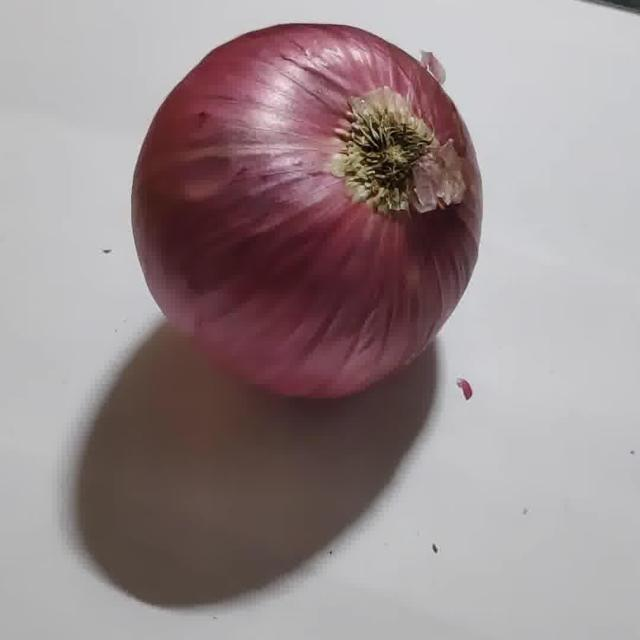Onion: (132, 23, 481, 398)
